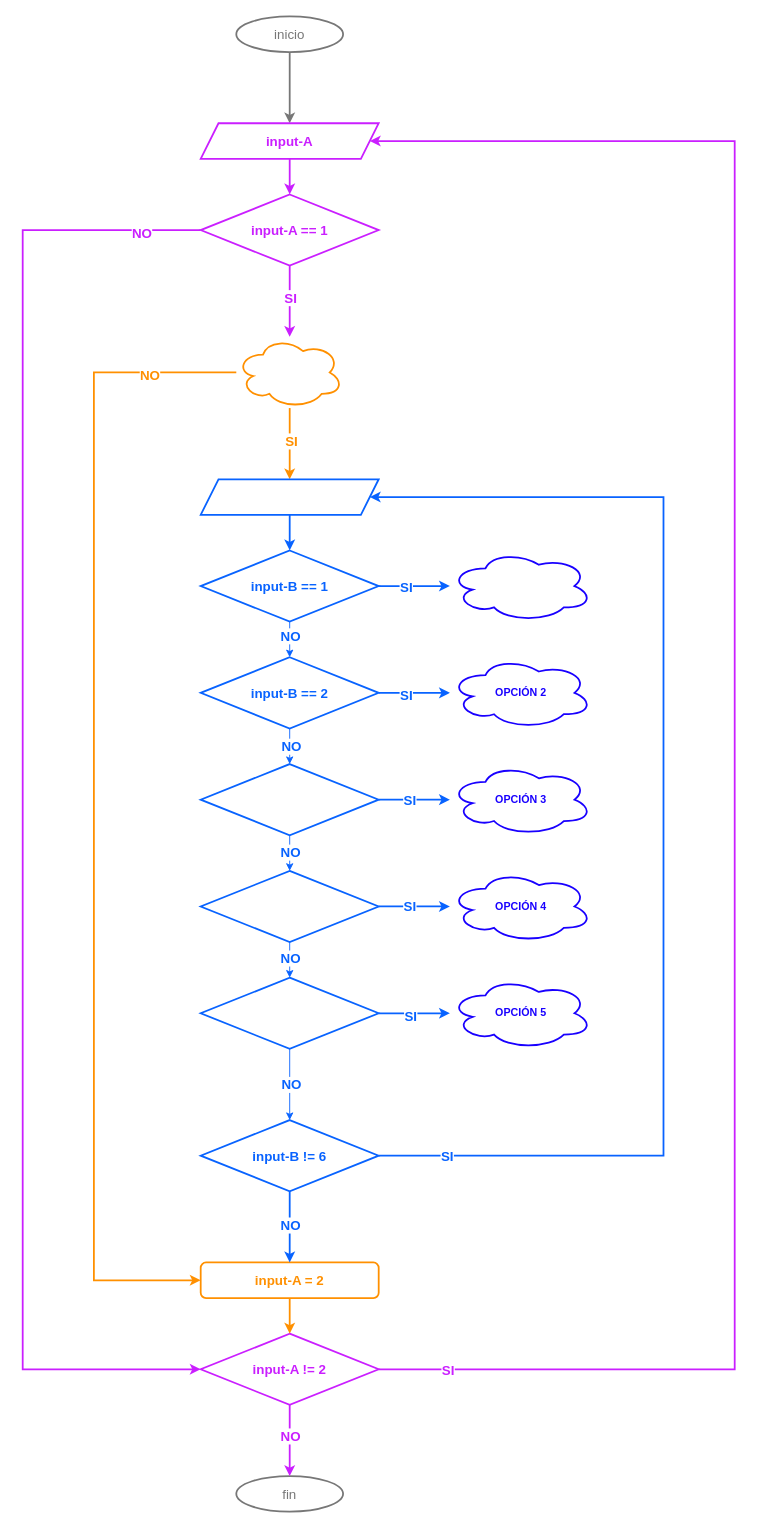
Image size: 757x1527. Some labels were removed from this diagram. Here are the shapes that lost their labels. From the top down, the centre of each, then its label:
pixel 289 372: REGISTRO
pixel 289 496: input-B
pixel 521 585: OPCIÓN 1
pixel 289 799: input-B == 3
pixel 289 906: input-B == 4
pixel 289 1012: input-B == 5
